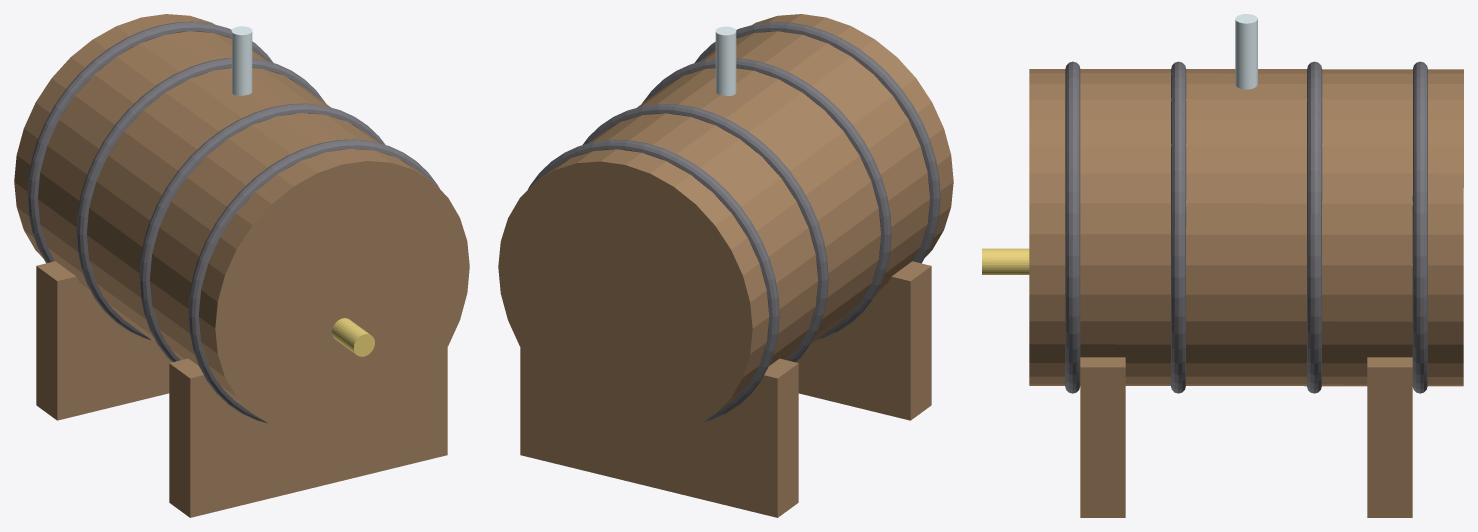
The model's file is mead_fermenter.glb.
3 renders of one model, left to right at view 1: azimuth 30°, elevation 25°; view 2: azimuth 150°, elevation 25°; view 3: azimuth 270°, elevation 25°, orthographic. The views are drawn at different scales.
Parts seen in each view (by area): view 1: Cylinder, Cube, Cube.001, Torus, Torus.002, Torus.001, Torus.003, Cylinder.002, Cylinder.001; view 2: Cylinder, Cube.001, Cube, Torus.003, Torus.001, Torus.002, Torus, Cylinder.002; view 3: Cylinder, Cube, Cube.001, Torus, Torus.003, Torus.001, Torus.002, Cylinder.002, Cylinder.001.
Part boxes in pixels (x1=…): Cylinder: x1=14, y1=14, x2=469, y2=434; Cube: x1=169, y1=347, x2=447, y2=517; Cube.001: x1=36, y1=261, x2=171, y2=420; Torus: x1=188, y1=139, x2=439, y2=423; Torus.002: x1=76, y1=58, x2=325, y2=340; Torus.001: x1=139, y1=103, x2=385, y2=362; Torus.003: x1=27, y1=21, x2=273, y2=263; Cylinder.002: x1=231, y1=26, x2=252, y2=95; Cylinder.001: x1=332, y1=318, x2=374, y2=356; Cylinder: x1=498, y1=14, x2=953, y2=434; Cube.001: x1=520, y1=347, x2=798, y2=517; Cube: x1=796, y1=261, x2=931, y2=420; Torus.003: x1=528, y1=139, x2=779, y2=422; Torus.001: x1=642, y1=58, x2=891, y2=340; Torus.002: x1=583, y1=104, x2=828, y2=362; Torus: x1=694, y1=22, x2=940, y2=263; Cylinder.002: x1=715, y1=26, x2=736, y2=95; Cylinder: x1=1029, y1=69, x2=1463, y2=386; Cube: x1=1080, y1=357, x2=1125, y2=517; Cube.001: x1=1367, y1=357, x2=1412, y2=517; Torus: x1=1065, y1=61, x2=1080, y2=393; Torus.003: x1=1412, y1=61, x2=1427, y2=393; Torus.001: x1=1171, y1=61, x2=1186, y2=393; Torus.002: x1=1307, y1=61, x2=1322, y2=393; Cylinder.002: x1=1235, y1=14, x2=1257, y2=89; Cylinder.001: x1=982, y1=248, x2=1029, y2=274.
Size of the model in its own units: 0.88 by 1.26 by 1.28.
